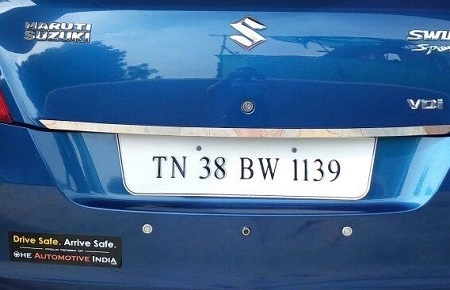number_plate: (137, 141, 352, 186)
